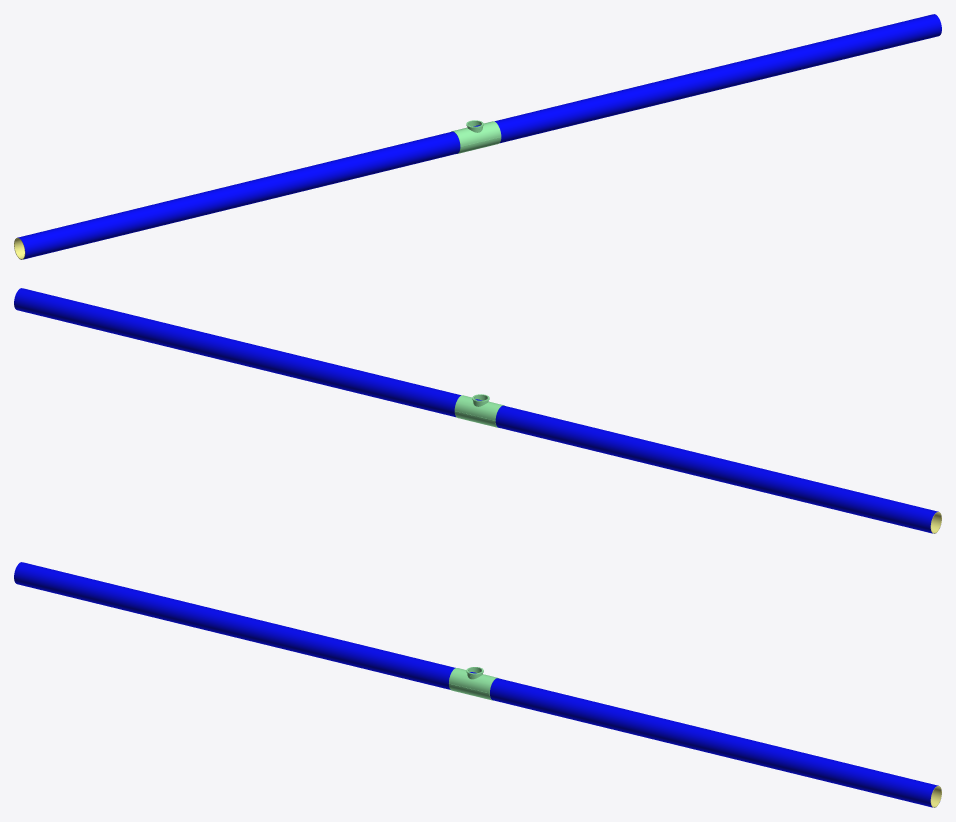
The model's file is Pipe.FBX.
3 views of the same model, one above another, from view 1: azimuth 30°, elevation 25°; view 2: azimuth 150°, elevation 25°; view 3: azimuth 330°, elevation 25° (orthographic).
Parts seen in each view (by area): view 1: Covering_01, Covering_02, Fitting_Top; view 2: Covering_01, Covering_02, Fitting_Top; view 3: Covering_01, Covering_02, Fitting_Top.
Part boxes in pixels (left/top/right/bottom): Covering_01: left=494, top=14, right=941, bottom=143; Covering_02: left=17, top=131, right=460, bottom=259; Fitting_Top: left=451, top=121, right=501, bottom=146; Covering_01: left=14, top=288, right=461, bottom=417; Covering_02: left=495, top=405, right=938, bottom=533; Fitting_Top: left=454, top=395, right=504, bottom=420; Covering_01: left=490, top=678, right=938, bottom=807; Covering_02: left=14, top=562, right=455, bottom=689; Fitting_Top: left=449, top=668, right=498, bottom=693.
Bounding box in the file's own units: 3576 × 78.9 × 91.2.
